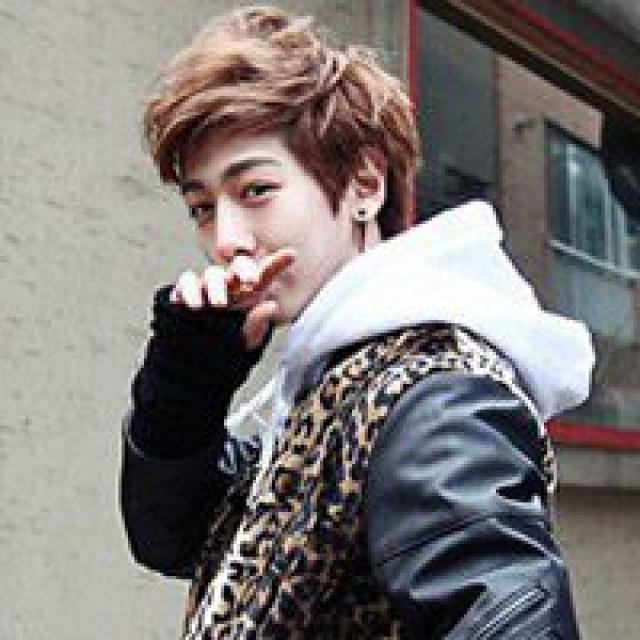nomask: (175, 112, 338, 323)
